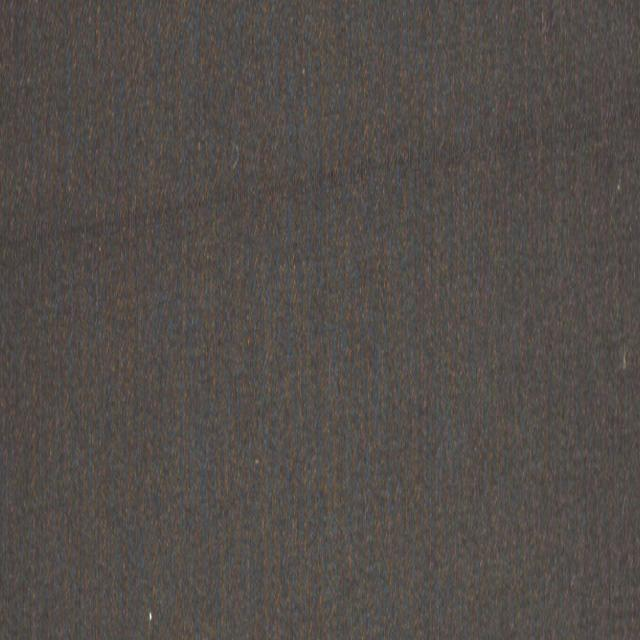Line: (0, 90, 640, 262)
